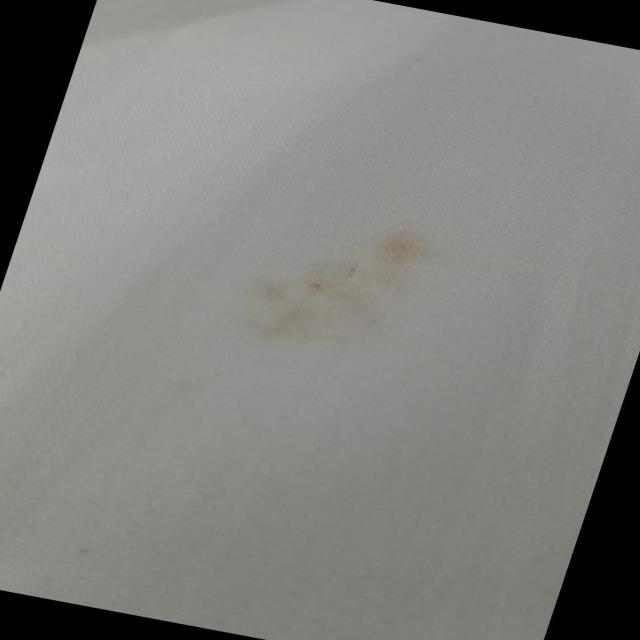stain: (204, 184, 466, 389)
